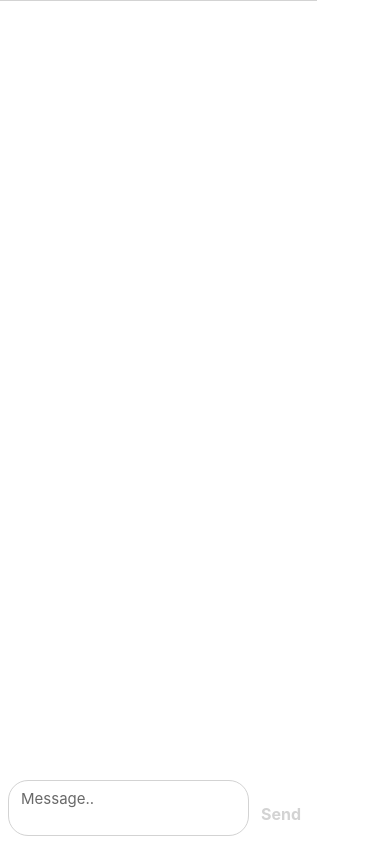
Test: Composer › keeps what was typed while the previous message was being stored
In the text box with test id "composer-input": (128, 808) [21,781,236,835], type "first message"
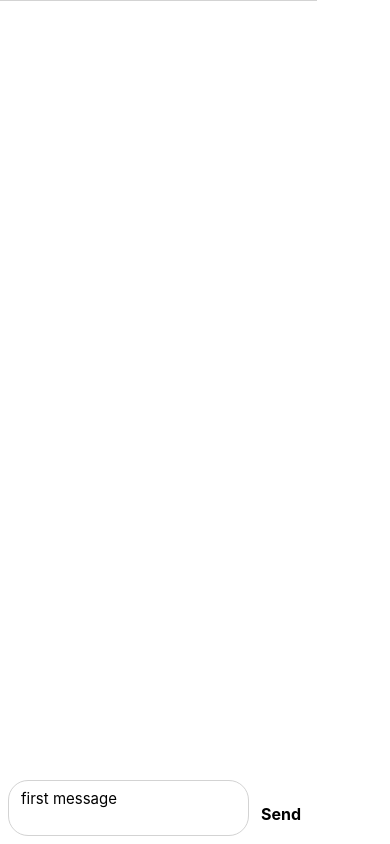
Click the button "Send": (281, 814) [253,792,309,836]
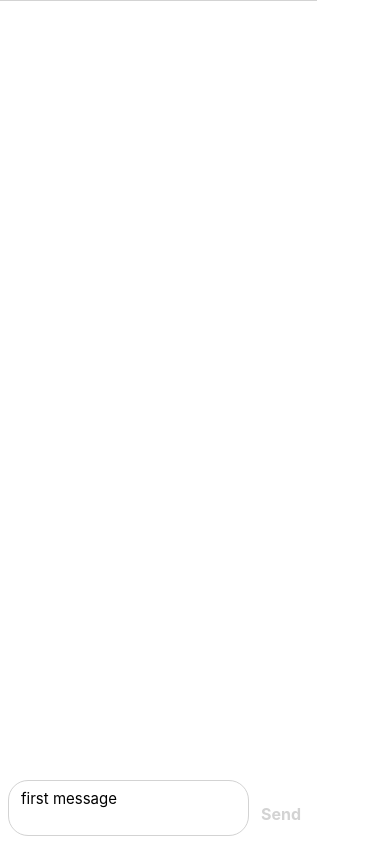
Replace the text in the text box with test id "composer-input" with "second message, not sent yet": (128, 808) [21,781,236,835]
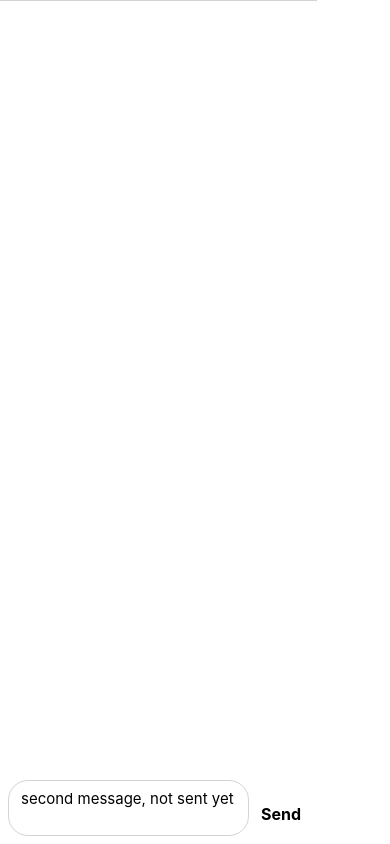
Replace the text in the text box with test id "composer-input" with "third": (128, 808) [21,781,236,835]
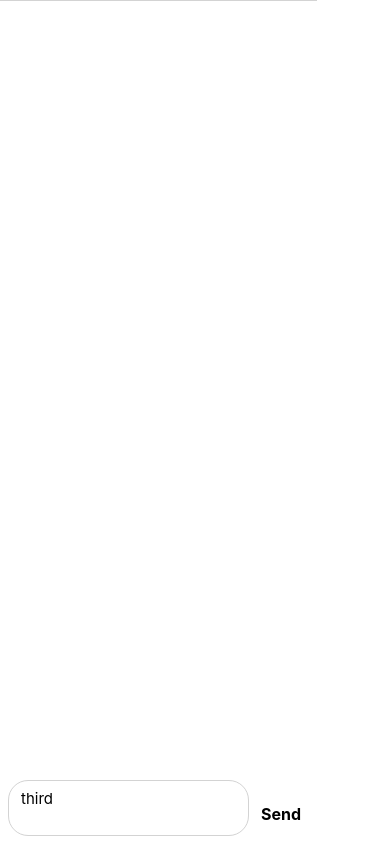
Click the button "Send": (281, 814) [253,792,309,836]
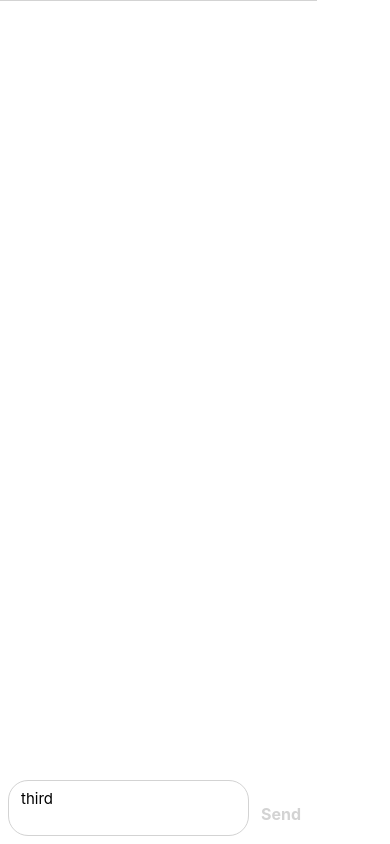
Replace the text in the text box with test id "composer-input" with "third and fourth": (128, 808) [21,781,236,835]
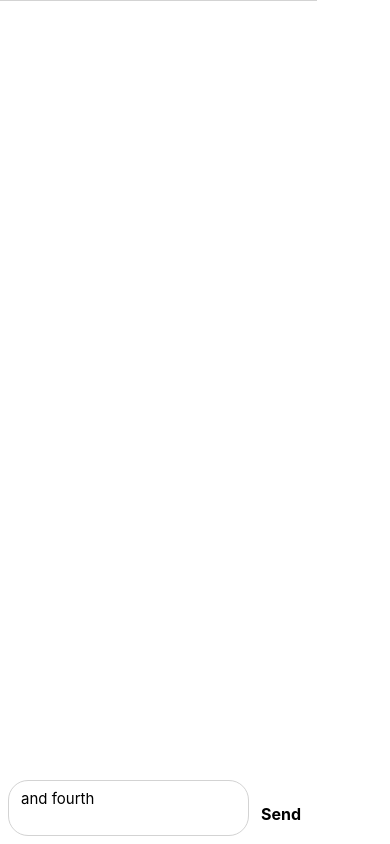
Expected: the text box with test id "composer-input" holds "and fourth", [21,781,236,835]
